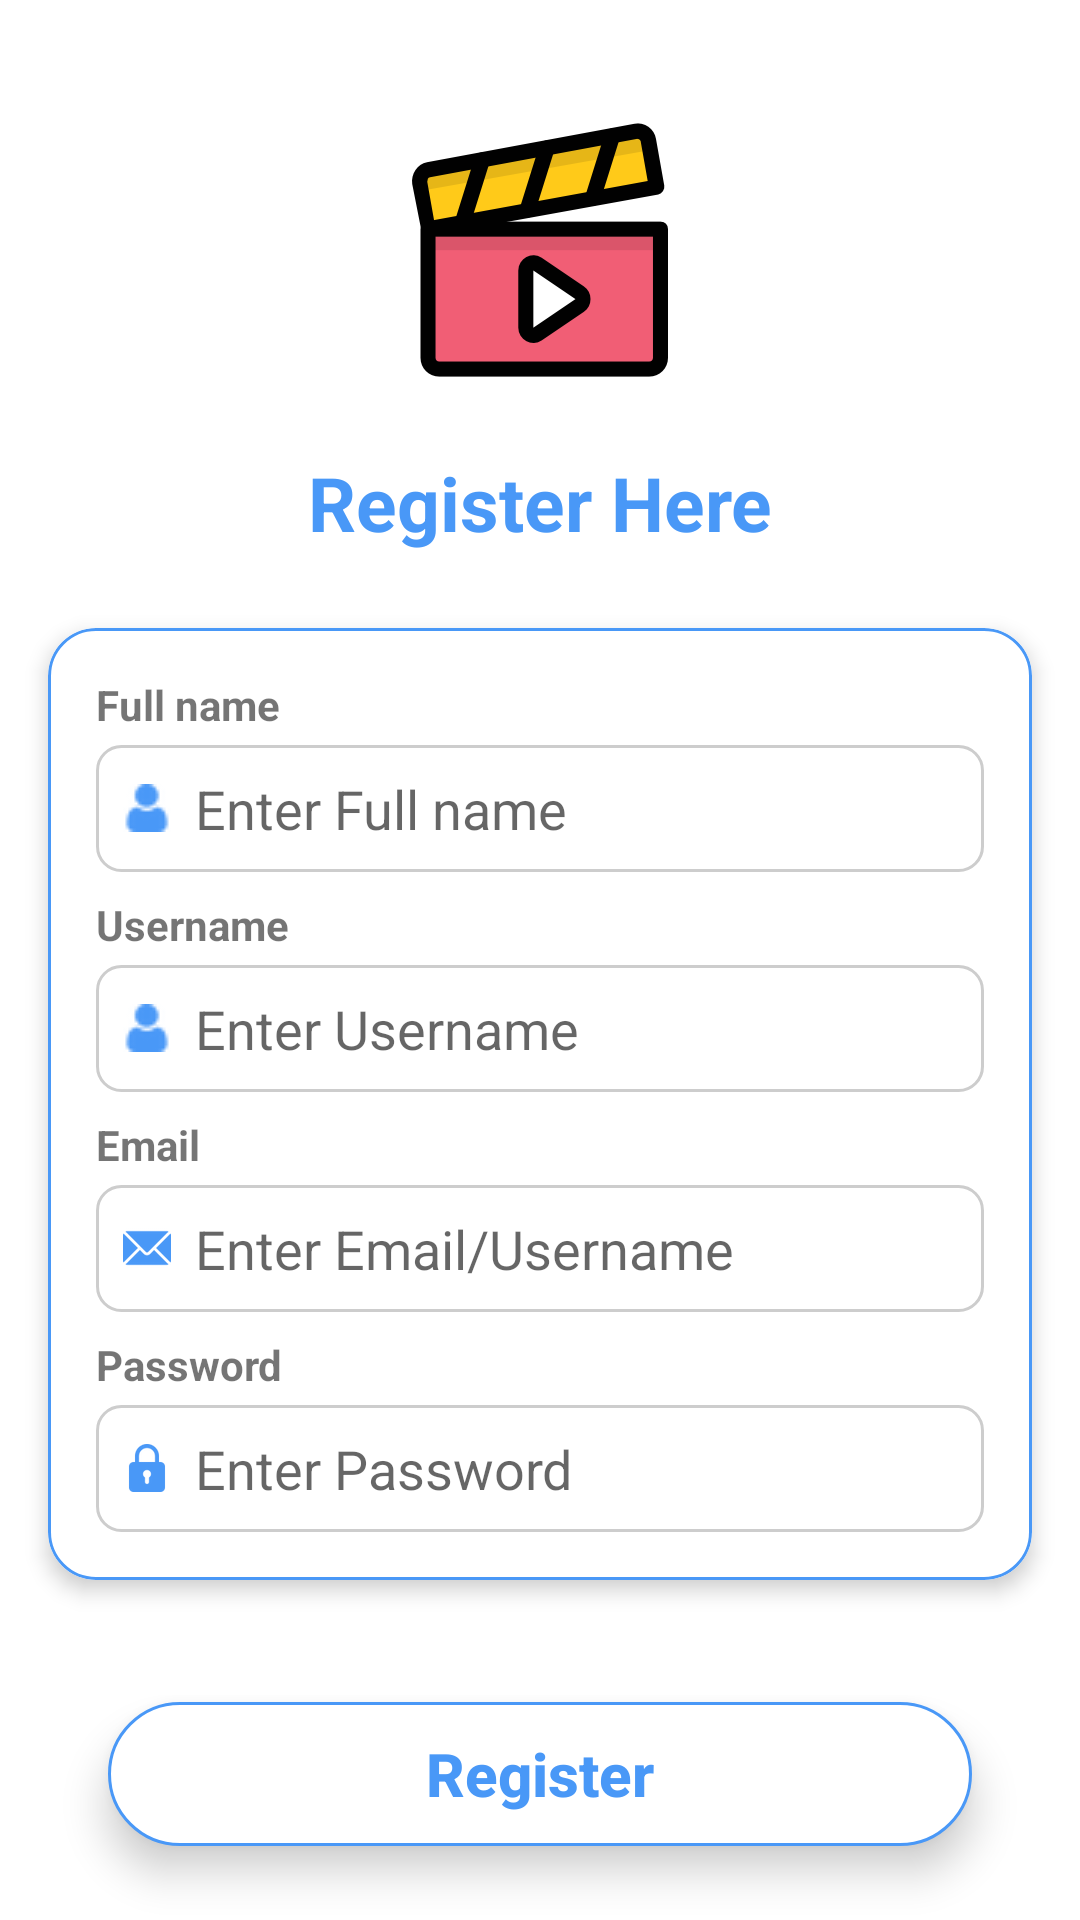

Locate icon controls on the screen. Image size 1080px x 1920px, boxes as (x1, y1, x2, y2).
video player: (412, 123, 668, 377)
